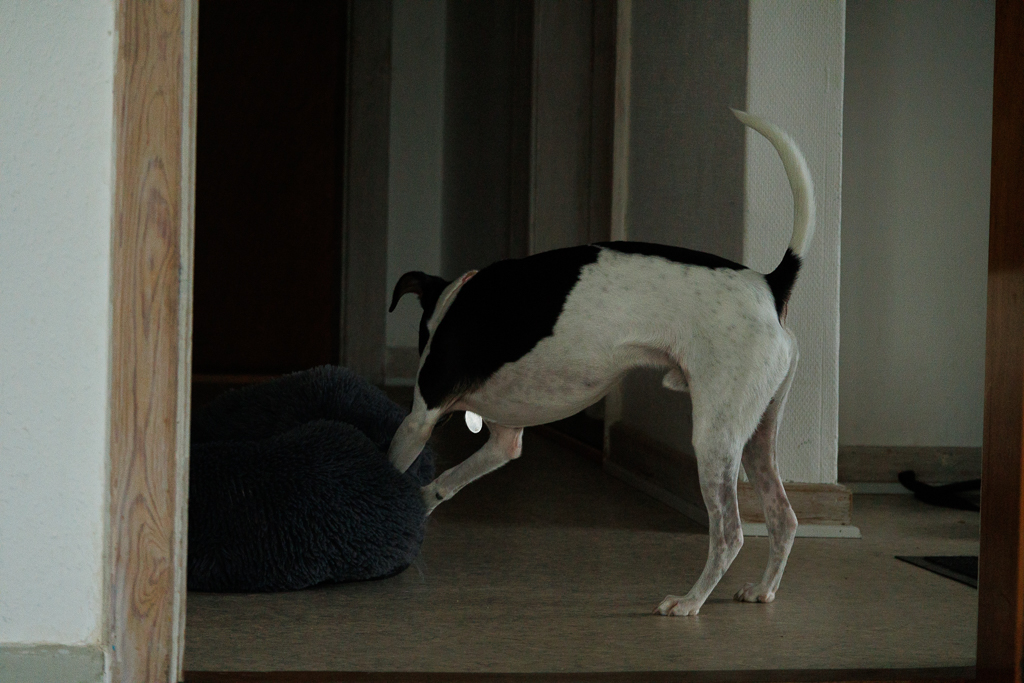Dog: (377, 106, 829, 620)
